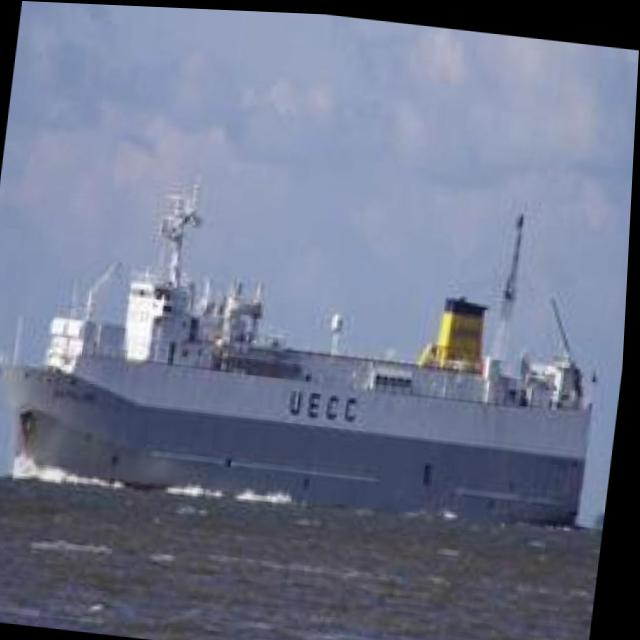ship2: (0, 180, 598, 523)
